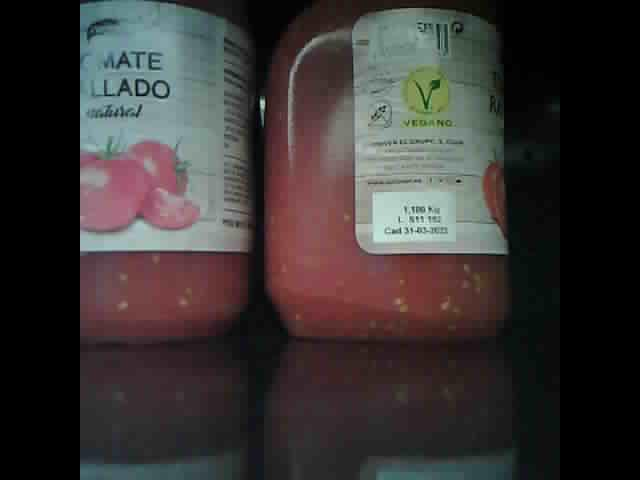tomate: (262, 7, 509, 337), (82, 5, 255, 347)
